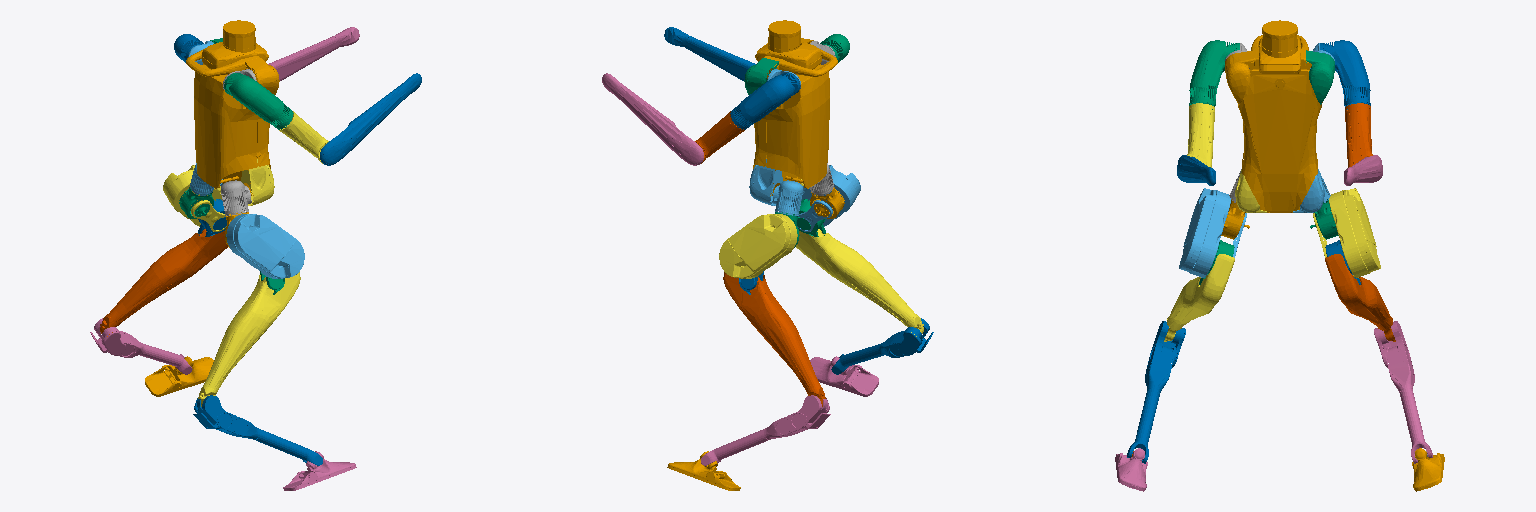
--- Facts derived from the render (not from the file) ---
Views: 3 orthographic renders of the robot side by side, from view 1: azimuth 30°, elevation 25°; view 2: azimuth 150°, elevation 25°; view 3: azimuth 270°, elevation 25°.
Model digit with 29 links and 28 joints (24 continuous, 4 fixed), rooted at torso, posed every joint at zero.
Visible links, largest first — view 1: torso, left_shin, right_shin, right_hip_pitch, right_tarsus, right_elbow, right_shoulder_pitch, left_tarsus, left_toe_roll, left_elbow, left_hip_pitch, right_toe_roll (+5 smaller); view 2: torso, right_shin, left_shin, left_hip_pitch, left_tarsus, left_elbow, left_shoulder_pitch, right_tarsus, right_toe_roll, right_elbow, right_hip_pitch, left_toe_roll (+5 smaller); view 3: torso, left_hip_pitch, right_hip_pitch, left_tarsus, right_tarsus, left_shin, right_shin, left_shoulder_pitch, right_shoulder_pitch, left_shoulder_yaw, right_shoulder_yaw, right_shoulder_cap (+9 smaller).
Link boxes in pixels (x1,y1,x2,y2): torso: (186, 20, 270, 195); left_shin: (100, 229, 227, 336); right_shin: (198, 272, 300, 406); right_hip_pitch: (226, 214, 304, 278); right_tarsus: (193, 395, 322, 465); right_elbow: (320, 73, 421, 165); right_shoulder_pitch: (224, 73, 293, 129); left_tarsus: (90, 318, 192, 374); left_toe_roll: (145, 356, 213, 396); left_elbow: (268, 27, 359, 80); left_hip_pitch: (163, 165, 226, 231); right_toe_roll: (283, 451, 356, 490); torso: (753, 20, 837, 195); right_shin: (796, 229, 923, 336); left_shin: (723, 272, 825, 406); left_hip_pitch: (719, 214, 797, 278); left_tarsus: (701, 395, 830, 465); left_elbow: (602, 73, 703, 165); left_shoulder_pitch: (730, 73, 799, 129); right_tarsus: (831, 318, 933, 374); right_toe_roll: (810, 356, 878, 396); right_elbow: (664, 27, 755, 80); right_hip_pitch: (797, 165, 860, 231); left_toe_roll: (667, 451, 740, 490); torso: (1237, 20, 1322, 212); left_hip_pitch: (1313, 188, 1380, 277); right_hip_pitch: (1179, 188, 1246, 277); left_tarsus: (1374, 321, 1432, 463); right_tarsus: (1127, 321, 1185, 463); left_shin: (1325, 254, 1395, 341); right_shin: (1164, 254, 1234, 341); left_shoulder_pitch: (1320, 40, 1370, 109); right_shoulder_pitch: (1189, 40, 1239, 109); left_shoulder_yaw: (1345, 103, 1372, 167); right_shoulder_yaw: (1187, 103, 1214, 167); right_shoulder_cap: (1225, 50, 1253, 104).
Size in the robot's own frame: 0.8721 by 0.9339 by 1.4 metres.
29 mesh visuals loaded from 14 distinct referenced files (14 OBJ).

robot.urdf — digit:
<?xml version="1.0" encoding="utf-8"?>
<robot name="digit">
  <link name="torso">
    <inertial>
      <origin rpy="0 0 0" xyz="0.001637 0.0002 0.259547"/>
      <mass value="15.028392"/>
      <inertia ixx="0.376284" ixy="-8.8e-05" ixz="0.008378" iyy="0.342655" iyz="6.7e-05" izz="0.100648"/>
    </inertial>
    <visual>
      <origin rpy="0 0 0" xyz="0 0 0"/>
      <geometry>
        <mesh filename="torso.obj"/>
      </geometry>
    </visual>
    <collision>
      <origin rpy="0 0 0" xyz="0 0 0"/>
      <geometry>
        <mesh filename="torso.obj"/>
      </geometry>
    </collision>
  </link>
  <link name="left_hip_roll">
    <inertial>
      <origin rpy="0 0 0" xyz="-0.001967 0.000244 0.031435"/>
      <mass value="0.915088"/>
      <inertia ixx="0.001017" ixy="-3e-06" ixz="1.3e-05" iyy="0.001148" iyz="-4e-06" izz="0.000766"/>
    </inertial>
    <visual>
      <origin rpy="0 0 0" xyz="0 0 0"/>
      <geometry>
        <mesh filename="hip-yaw-housing.obj"/>
      </geometry>
    </visual>
    <collision>
      <origin rpy="0 0 0" xyz="0 0 0"/>
      <geometry>
        <mesh filename="hip-yaw-housing.obj"/>
      </geometry>
    </collision>
  </link>
  <link name="left_hip_yaw">
    <inertial>
      <origin rpy="0 0 0" xyz="1e-05 -0.001945 0.042033"/>
      <mass value="0.818753"/>
      <inertia ixx="0.001627" ixy="-1e-06" ixz="2e-06" iyy="0.001929" iyz="5.3e-05" izz="0.00077"/>
    </inertial>
    <visual>
      <origin rpy="0 0 0" xyz="0 0 0"/>
      <geometry>
        <mesh filename="hip-pitch-housing.obj"/>
      </geometry>
    </visual>
    <collision>
      <origin rpy="0 0 0" xyz="0 0 0"/>
      <geometry>
        <mesh filename="hip-pitch-housing.obj"/>
      </geometry>
    </collision>
  </link>
  <link name="left_hip_pitch">
    <inertial>
      <origin rpy="0 0 0" xyz="0.060537 0.000521 -0.038857"/>
      <mass value="6.244279"/>
      <inertia ixx="0.011533" ixy="-0.000171" ixz="0.000148" iyy="0.033345" iyz="0.000178" izz="0.033958"/>
    </inertial>
    <visual>
      <origin rpy="0 0 0" xyz="0 0 0"/>
      <geometry>
        <mesh filename="hip-pitch.obj"/>
      </geometry>
    </visual>
    <collision>
      <origin rpy="0 0 0" xyz="0 0 0"/>
      <geometry>
        <mesh filename="hip-pitch.obj"/>
      </geometry>
    </collision>
  </link>
  <link name="left_knee">
    <inertial>
      <origin rpy="0 0 0" xyz="0.045641 0.042154 0.001657"/>
      <mass value="1.227077"/>
      <inertia ixx="0.002643" ixy="-0.001832" ixz="6.6e-05" iyy="0.005098" iyz="4.5e-05" izz="0.007019"/>
    </inertial>
    <visual>
      <origin rpy="0 0 0" xyz="0 0 0"/>
      <geometry>
        <mesh filename="knee.obj"/>
      </geometry>
    </visual>
    <collision>
      <origin rpy="0 0 0" xyz="0 0 0"/>
      <geometry>
        <mesh filename="knee.obj"/>
      </geometry>
    </collision>
  </link>
  <link name="left_shin">
    <inertial>
      <origin rpy="0 0 0" xyz="0.174265 0.010265 0.00107"/>
      <mass value="0.895793"/>
      <inertia ixx="0.001128" ixy="0.001098" ixz="0.000196" iyy="0.022492" iyz="-3e-06" izz="0.022793"/>
    </inertial>
    <visual>
      <origin rpy="0 0 0" xyz="0 0 0"/>
      <geometry>
        <mesh filename="shin.obj"/>
      </geometry>
    </visual>
    <collision>
      <origin rpy="0 0 0" xyz="0 0 0"/>
      <geometry>
        <mesh filename="shin.obj"/>
      </geometry>
    </collision>
  </link>
  <link name="left_tarsus">
    <inertial>
      <origin rpy="0 0 0" xyz="0.000932 -0.029183 0.000678"/>
      <mass value="1.322865"/>
      <inertia ixx="0.000932" ixy="0.00061" ixz="0.000102" iyy="0.016409" iyz="9e-06" izz="0.016501"/>
    </inertial>
    <visual>
      <origin rpy="0 0 0" xyz="0 0 0"/>
      <geometry>
        <mesh filename="tarsus.obj"/>
      </geometry>
    </visual>
    <collision>
      <origin rpy="0 0 0" xyz="0 0 0"/>
      <geometry>
        <mesh filename="tarsus.obj"/>
      </geometry>
    </collision>
  </link>
  <link name="left_toe_pitch">
    <inertial>
      <origin rpy="0 0 0" xyz="-0.000141 2e-06 3e-06"/>
      <mass value="0.043881"/>
      <inertia ixx="5e-06" ixy="0" ixz="0" iyy="8e-06" iyz="0" izz="5e-06"/>
    </inertial>
    <visual>
      <origin rpy="0 0 0" xyz="0 0 0"/>
      <geometry>
        <mesh filename="toe-pitch.obj"/>
      </geometry>
    </visual>
    <collision>
      <origin rpy="0 0 0" xyz="0 0 0"/>
      <geometry>
        <mesh filename="toe-pitch.obj"/>
      </geometry>
    </collision>
  </link>
  <link name="left_toe_roll">
    <inertial>
      <origin rpy="0 0 0" xyz="9e-06 -0.028084 -0.023204"/>
      <mass value="0.531283"/>
      <inertia ixx="0.00187" ixy="0" ixz="0" iyy="0.001616" iyz="0.000566" izz="0.000843"/>
    </inertial>
    <visual>
      <origin rpy="0 0 0" xyz="0 0 0"/>
      <geometry>
        <mesh filename="toe-roll.obj"/>
      </geometry>
    </visual>
    <collision>
      <origin rpy="0 0 0" xyz="0 0 0"/>
      <geometry>
        <mesh filename="toe-roll.obj"/>
      </geometry>
    </collision>
  </link>
  <link name="left_shoulder_roll">
    <inertial>
      <origin rpy="0 0 0" xyz="9e-06 -0.003158 0.023405"/>
      <mass value="0.535396"/>
      <inertia ixx="0.000704" ixy="1.4e-05" ixz="1.2e-05" iyy="0.00075" iyz="3.5e-05" izz="0.000298"/>
    </inertial>
    <visual>
      <origin rpy="0 0 0" xyz="0 0 0"/>
      <geometry>
        <mesh filename="arm-L1.obj"/>
      </geometry>
    </visual>
    <collision>
      <origin rpy="0 0 0" xyz="0 0 0"/>
      <geometry>
        <mesh filename="arm-L1.obj"/>
      </geometry>
    </collision>
  </link>
  <link name="left_shoulder_cap">
    <inertial>
      <origin rpy="0 0 0" xyz="9e-06 -0.003158 0.023405"/>
      <mass value="0.535396"/>
      <inertia ixx="0.000704" ixy="1.4e-05" ixz="1.2e-05" iyy="0.00075" iyz="3.5e-05" izz="0.000298"/>
    </inertial>
    <visual>
      <origin rpy="0 0 0" xyz="0 0 0"/>
      <geometry>
        <mesh filename="shoulder-roll-housing.obj"/>
      </geometry>
    </visual>
    <collision>
      <origin rpy="0 0 0" xyz="0 0 0"/>
      <geometry>
        <mesh filename="shoulder-roll-housing.obj"/>
      </geometry>
    </collision>
  </link>
  <link name="left_waist_cap">
    <inertial>
      <origin rpy="0 0 0" xyz="9e-06 -0.003158 0.023405"/>
      <mass value="0.535396"/>
      <inertia ixx="0.000704" ixy="1.4e-05" ixz="1.2e-05" iyy="0.00075" iyz="3.5e-05" izz="0.000298"/>
    </inertial>
    <visual>
      <origin rpy="0 0 0" xyz="0 0 0"/>
      <geometry>
        <mesh filename="shoulder-roll-housing.obj"/>
      </geometry>
    </visual>
    <collision>
      <origin rpy="0 0 0" xyz="0 0 0"/>
      <geometry>
        <mesh filename="shoulder-roll-housing.obj"/>
      </geometry>
    </collision>
  </link>
  <link name="left_shoulder_pitch">
    <inertial>
      <origin rpy="0 0 0" xyz="-4.2e-05 -0.061882 -0.073788"/>
      <mass value="1.440357"/>
      <inertia ixx="0.006761" ixy="-6e-06" ixz="-3e-06" iyy="0.002087" iyz="-0.002046" izz="0.005778"/>
    </inertial>
    <visual>
      <origin rpy="0 0 0" xyz="0 0 0"/>
      <geometry>
        <mesh filename="arm-L2.obj"/>
      </geometry>
    </visual>
    <collision>
      <origin rpy="0 0 0" xyz="0 0 0"/>
      <geometry>
        <mesh filename="arm-L2.obj"/>
      </geometry>
    </collision>
  </link>
  <link name="left_shoulder_yaw">
    <inertial>
      <origin rpy="0 0 0" xyz="-3e-05 -0.001937 0.11407"/>
      <mass value="1.065387"/>
      <inertia ixx="0.006967" ixy="1e-06" ixz="-1e-06" iyy="0.007003" iyz="1.5e-05" izz="0.000673"/>
    </inertial>
    <visual>
      <origin rpy="0 0 0" xyz="0 0 0"/>
      <geometry>
        <mesh filename="arm-L3.obj"/>
      </geometry>
    </visual>
    <collision>
      <origin rpy="0 0 0" xyz="0 0 0"/>
      <geometry>
        <mesh filename="arm-L3.obj"/>
      </geometry>
    </collision>
  </link>
  <link name="left_elbow">
    <inertial>
      <origin rpy="0 0 0" xyz="0.107996 -0.000521 -0.017765"/>
      <mass value="0.550582"/>
      <inertia ixx="0.000476" ixy="2.9e-05" ixz="0.001403" iyy="0.009564" iyz="1.5e-05" izz="-9e-06"/>
    </inertial>
    <visual>
      <origin rpy="0 0 0" xyz="0 0 0"/>
      <geometry>
        <mesh filename="arm-L4.obj"/>
      </geometry>
    </visual>
    <collision>
      <origin rpy="0 0 0" xyz="0 0 0"/>
      <geometry>
        <mesh filename="arm-L4.obj"/>
      </geometry>
    </collision>
  </link>
 
  <link name="right_hip_roll">
    <inertial>
      <origin rpy="0 0 0" xyz="-0.001967 -0.000244 0.031435"/>
      <mass value="0.915088"/>
      <inertia ixx="0.001017" ixy="3e-06" ixz="1.3e-05" iyy="0.001148" iyz="4e-06" izz="0.000766"/>
    </inertial>
    <visual>
      <origin rpy="0 0 0" xyz="0 0 0"/>
      <geometry>
        <mesh filename="hip-yaw-housing.obj" scale="1 -1 1"/>
      </geometry>
    </visual>
    <collision>
      <origin rpy="0 0 0" xyz="0 0 0"/>
      <geometry>
        <mesh filename="hip-yaw-housing.obj" scale="1 -1 1"/>
      </geometry>
    </collision>
  </link>
  <link name="right_hip_yaw">
    <inertial>
      <origin rpy="0 0 0" xyz="1e-05 0.001945 0.042033"/>
      <mass value="0.818753"/>
      <inertia ixx="0.001627" ixy="1e-06" ixz="2e-06" iyy="0.001929" iyz="-5.3e-05" izz="0.00077"/>
    </inertial>
    <visual>
      <origin rpy="0 0 0" xyz="0 0 0"/>
      <geometry>
        <mesh filename="hip-pitch-housing.obj" scale="1 -1 1"/>
      </geometry>
    </visual>
    <collision>
      <origin rpy="0 0 0" xyz="0 0 0"/>
      <geometry>
        <mesh filename="hip-pitch-housing.obj" scale="1 -1 1"/>
      </geometry>
    </collision>
  </link>
  <link name="right_hip_pitch">
    <inertial>
      <origin rpy="0 0 0" xyz="0.060537 -0.000521 -0.038857"/>
      <mass value="6.244279"/>
      <inertia ixx="0.011533" ixy="0.000171" ixz="0.000148" iyy="0.033345" iyz="-0.000178" izz="0.033958"/>
    </inertial>
    <visual>
      <origin rpy="0 0 0" xyz="0 0 0"/>
      <geometry>
        <mesh filename="hip-pitch.obj" scale="1 -1 1"/>
      </geometry>
    </visual>
    <collision>
      <origin rpy="0 0 0" xyz="0 0 0"/>
      <geometry>
        <mesh filename="hip-pitch.obj" scale="1 -1 1"/>
      </geometry>
    </collision>
  </link>
  <link name="right_knee">
    <inertial>
      <origin rpy="0 0 0" xyz="0.045641 -0.042154 0.001657"/>
      <mass value="1.227077"/>
      <inertia ixx="0.002643" ixy="0.001832" ixz="6.6e-05" iyy="0.005098" iyz="-4.5e-05" izz="0.007019"/>
    </inertial>
    <visual>
      <origin rpy="0 0 0" xyz="0 0 0"/>
      <geometry>
        <mesh filename="knee.obj" scale="1 -1 1"/>
      </geometry>
    </visual>
    <collision>
      <origin rpy="0 0 0" xyz="0 0 0"/>
      <geometry>
        <mesh filename="knee.obj" scale="1 -1 1"/>
      </geometry>
    </collision>
  </link>
  <link name="right_shin">
    <inertial>
      <origin rpy="0 0 0" xyz="0.174265 -0.010265 0.00107"/>
      <mass value="0.895793"/>
      <inertia ixx="0.001128" ixy="-0.001098" ixz="0.000196" iyy="0.022492" iyz="3e-06" izz="0.022793"/>
    </inertial>
    <visual>
      <origin rpy="0 0 0" xyz="0 0 0"/>
      <geometry>
        <mesh filename="shin.obj" scale="1 -1 1"/>
      </geometry>
    </visual>
    <collision>
      <origin rpy="0 0 0" xyz="0 0 0"/>
      <geometry>
        <mesh filename="shin.obj" scale="1 -1 1"/>
      </geometry>
    </collision>
  </link>
  <link name="right_tarsus">
    <inertial>
      <origin rpy="0 0 0" xyz="0.000932 0.029183 0.000678"/>
      <mass value="1.322865"/>
      <inertia ixx="0.000932" ixy="-0.00061" ixz="0.000102" iyy="0.016409" iyz="-9e-06" izz="0.016501"/>
    </inertial>
    <visual>
      <origin rpy="0 0 0" xyz="0 0 0"/>
      <geometry>
        <mesh filename="tarsus.obj" scale="1 -1 1"/>
      </geometry>
    </visual>
    <collision>
      <origin rpy="0 0 0" xyz="0 0 0"/>
      <geometry>
        <mesh filename="tarsus.obj" scale="1 -1 1"/>
      </geometry>
    </collision>
  </link>
  <link name="right_toe_pitch">
    <inertial>
      <origin rpy="0 0 0" xyz="-0.000141 -2e-06 3e-06"/>
      <mass value="0.043881"/>
      <inertia ixx="5e-06" ixy="0" ixz="0" iyy="8e-06" iyz="0" izz="5e-06"/>
    </inertial>
    <visual>
      <origin rpy="0 0 0" xyz="0 0 0"/>
      <geometry>
        <mesh filename="toe-pitch.obj" scale="1 -1 1"/>
      </geometry>
    </visual>
    <collision>
      <origin rpy="0 0 0" xyz="0 0 0"/>
      <geometry>
        <mesh filename="toe-pitch.obj" scale="1 -1 1"/>
      </geometry>
    </collision>
  </link>
  <link name="right_toe_roll">
    <inertial>
      <origin rpy="0 0 0" xyz="9e-06 0.028084 -0.023204"/>
      <mass value="0.531283"/>
      <inertia ixx="0.00187" ixy="0" ixz="0" iyy="0.001616" iyz="-0.000566" izz="0.000843"/>
    </inertial>
    <visual>
      <origin rpy="0 0 0" xyz="0 0 0"/>
      <geometry>
        <mesh filename="toe-roll.obj" scale="1 -1 1"/>
      </geometry>
    </visual>
    <collision>
      <origin rpy="0 0 0" xyz="0 0 0"/>
      <geometry>
        <mesh filename="toe-roll.obj" scale="1 -1 1"/>
      </geometry>
    </collision>
  </link>
  <link name="right_shoulder_roll">
    <inertial>
      <origin rpy="0 0 0" xyz="9e-06 0.003158 0.023405"/>
      <mass value="0.535396"/>
      <inertia ixx="0.000704" ixy="-1.4e-05" ixz="1.2e-05" iyy="0.00075" iyz="-3.5e-05" izz="0.000298"/>
    </inertial>
    <visual>
      <origin rpy="0 0 0" xyz="0 0 0"/>
      <geometry>
        <mesh filename="arm-L1.obj" scale="1 -1 1"/>
      </geometry>
    </visual>
    <collision>
      <origin rpy="0 0 0" xyz="0 0 0"/>
      <geometry>
        <mesh filename="arm-L1.obj" scale="1 -1 1"/>
      </geometry>
    </collision>
  </link>
  <link name="right_shoulder_cap">
    <inertial>
      <origin rpy="0 0 0" xyz="9e-06 0.003158 0.023405"/>
      <mass value="0.535396"/>
      <inertia ixx="0.000704" ixy="-1.4e-05" ixz="1.2e-05" iyy="0.00075" iyz="-3.5e-05" izz="0.000298"/>
    </inertial>
    <visual>
      <origin rpy="0 0 0" xyz="0 0 0"/>
      <geometry>
        <mesh filename="shoulder-roll-housing.obj" scale="1 -1 1"/>
      </geometry>
    </visual>
    <collision>
      <origin rpy="0 0 0" xyz="0 0 0"/>
      <geometry>
        <mesh filename="shoulder-roll-housing.obj" scale="1 -1 1"/>
      </geometry>
    </collision>
  </link>
  <link name="right_waist_cap">
    <inertial>
      <origin rpy="0 0 0" xyz="9e-06 0.003158 0.023405"/>
      <mass value="0.535396"/>
      <inertia ixx="0.000704" ixy="-1.4e-05" ixz="1.2e-05" iyy="0.00075" iyz="-3.5e-05" izz="0.000298"/>
    </inertial>
    <visual>
      <origin rpy="0 0 0" xyz="0 0 0"/>
      <geometry>
        <mesh filename="shoulder-roll-housing.obj" scale="1 -1 1"/>
      </geometry>
    </visual>
    <collision>
      <origin rpy="0 0 0" xyz="0 0 0"/>
      <geometry>
        <mesh filename="shoulder-roll-housing.obj" scale="1 -1 1"/>
      </geometry>
    </collision>
  </link>
  <link name="right_shoulder_pitch">
    <inertial>
      <origin rpy="0 0 0" xyz="-4.2e-05 0.061882 -0.073788"/>
      <mass value="1.440357"/>
      <inertia ixx="0.006761" ixy="6e-06" ixz="-3e-06" iyy="0.002087" iyz="0.002046" izz="0.005778"/>
    </inertial>
    <visual>
      <origin rpy="0 0 0" xyz="0 0 0"/>
      <geometry>
        <mesh filename="arm-L2.obj" scale="1 -1 1"/>
      </geometry>
    </visual>
    <collision>
      <origin rpy="0 0 0" xyz="0 0 0"/>
      <geometry>
        <mesh filename="arm-L2.obj" scale="1 -1 1"/>
      </geometry>
    </collision>
  </link>
  <link name="right_shoulder_yaw">
    <inertial>
      <origin rpy="0 0 0" xyz="-3e-05 0.001937 0.11407"/>
      <mass value="1.065387"/>
      <inertia ixx="0.006967" ixy="-1e-06" ixz="-1e-06" iyy="0.007003" iyz="-1.5e-05" izz="0.000673"/>
    </inertial>
    <visual>
      <origin rpy="0 0 0" xyz="0 0 0"/>
      <geometry>
        <mesh filename="arm-L3.obj" scale="1 -1 1"/>
      </geometry>
    </visual>
    <collision>
      <origin rpy="0 0 0" xyz="0 0 0"/>
      <geometry>
        <mesh filename="arm-L3.obj" scale="1 -1 1"/>
      </geometry>
    </collision>
  </link>
  <link name="right_elbow">
    <inertial>
      <origin rpy="0 0 0" xyz="0.107996 0.000521 -0.017765"/>
      <mass value="0.550582"/>
      <inertia ixx="0.000476" ixy="-2.9e-05" ixz="0.001403" iyy="0.009564" iyz="-1.5e-05" izz="-9e-06"/>
    </inertial>
    <visual>
      <origin rpy="0 0 0" xyz="0 0 0"/>
      <geometry>
        <mesh filename="arm-L4.obj" scale="1 -1 1"/>
      </geometry>
    </visual>
    <collision>
      <origin rpy="0 0 0" xyz="0 0 0"/>
      <geometry>
        <mesh filename="arm-L4.obj" scale="1 -1 1"/>
      </geometry>
    </collision>
  </link> 
  <joint name="left-hip-roll" type="continuous">
    <origin rpy="1.57079632679 -1.1955506 -1.57079632679" xyz="-0.001 0.091 0"/>
    <axis xyz="0 0 1"/>
    <parent link="torso"/>
    <child link="left_hip_roll"/>
    <limit effort="1.4" lower="-1.0472" upper="1.0472" velocity="12.15"/>
  </joint>
  <joint name="left-hip-yaw" type="continuous">
    <origin rpy="0 -1.57079632679 0" xyz="-0.0505 0 0.044"/>
    <axis xyz="0 0 1"/>
    <parent link="left_hip_roll"/>
    <child link="left_hip_yaw"/>
    <limit effort="1.4" lower="-0.698132" upper="0.698132" velocity="12.15"/>
  </joint>
  <joint name="left-hip-pitch" type="continuous">
    <origin rpy="-1.57079632679 -0.785398163397 3.14159265359" xyz="0 0.004 0.068"/>
    <axis xyz="0 0 -1"/>
    <parent link="left_hip_yaw"/>
    <child link="left_hip_pitch"/>
    <limit effort="12.5" lower="-1.0472" upper="1.57079632679" velocity="8.5"/>
  </joint>
  <joint name="left-knee" type="continuous">
    <origin rpy="0 0 -1.57079632679" xyz="0.12 0 0.0045"/>
    <axis xyz="0 0 1"/>
    <parent link="left_hip_pitch"/>
    <child link="left_knee"/>
    <limit effort="12.5" lower="-1.2392" upper="0.8727" velocity="8.5085"/>
  </joint>
  <joint name="left-shin" type="continuous">
    <origin rpy="0 0 0" xyz="0.060677 0.047406 0"/>
    <axis xyz="0 0 1"/>
    <parent link="left_knee"/>
    <child link="left_shin"/>
    <limit effort="0" lower="-0.35" upper="0.35" velocity="10"/>
  </joint>
  <joint name="left-tarsus" type="continuous">
    <origin rpy="0 0 1.7976891" xyz="0.434759 0.02 0"/>
    <axis xyz="0 0 1"/>
    <parent link="left_shin"/>
    <child link="left_tarsus"/>
    <limit effort="0" lower="-0.8779" upper="1.2497" velocity="20"/>
  </joint>
  <joint name="left-toe-pitch" type="continuous">
    <origin rpy="0 0 1.1956" xyz="0.408 -0.04 0"/>
    <axis xyz="0 0 1"/>
    <parent link="left_tarsus"/>
    <child link="left_toe_pitch"/>
    <limit effort="0.9" lower="-0.785398163397" upper="0.785398163397" velocity="11.5"/>
  </joint>
  <joint name="left-toe-roll" type="continuous">
    <origin rpy="0 1.57079632679 0" xyz="0 0 0"/>
    <axis xyz="0 0 1"/>
    <parent link="left_toe_pitch"/>
    <child link="left_toe_roll"/>
    <limit effort="0.9" lower="-0.6109" upper="0.6109" velocity="11.5"/>
  </joint>
  <joint name="left-shoulder-roll" type="continuous">
    <origin rpy="-1.57079632679 -1.3962633 1.57079632679" xyz="-0.001 0.12 0.4"/>
    <axis xyz="0 0 1"/>
    <parent link="torso"/>
    <child link="left_shoulder_roll"/>
    <limit effort="1.4" lower="-1.309" upper="1.309" velocity="12.5"/>
  </joint>
  <joint name="shoulder_roll_cap_left" type="fixed">
    <origin rpy="-1.57079632679 -1.3962633 1.57079632679" xyz="0.001 0.12 0.4"/>
    <axis xyz="0 0 1"/>
    <parent link="torso"/>
    <child link="left_shoulder_cap"/>
    <limit effort="1.4" lower="-1.309" upper="1.309" velocity="12.5"/>
  </joint>
  <joint name="left-shoulder-pitch" type="continuous">
    <origin rpy="1.57079632679 0.785398163397 -0.2792527" xyz="-0.00317 -0.011055 0.0555"/>
    <axis xyz="0 0 -1"/>
    <parent link="left_shoulder_roll"/>
    <child link="left_shoulder_pitch"/>
    <limit effort="1.4" lower="-2.5307" upper="2.5307" velocity="12.5"/>
  </joint>
  <joint name="left-shoulder-yaw" type="continuous">
    <origin rpy="1.57079632679 0 0" xyz="0 -0.165 -0.1"/>
    <axis xyz="0 0 1"/>
    <parent link="left_shoulder_pitch"/>
    <child link="left_shoulder_yaw"/>
    <limit effort="1.4" lower="-1.7453" upper="1.7453" velocity="10"/>
  </joint>
  <joint name="left-elbow" type="continuous">
    <origin rpy="1.57079632679 -0.3926991 0" xyz="0 -0.0385 0.185"/>
    <axis xyz="0 0 1"/>
    <parent link="left_shoulder_yaw"/>
    <child link="left_elbow"/>
    <limit effort="1.4" lower="-1.3526" upper="1.3526" velocity="12.5"/>
  </joint>
  <joint name="right-hip-roll" type="continuous">
    <origin rpy="-1.57079632679 -1.1955506 1.57079632679" xyz="-0.001 -0.091 0"/>
    <axis xyz="0 0 1"/>
    <parent link="torso"/>
    <child link="right_hip_roll"/>
    <limit effort="1.4" lower="-1.0472" upper="1.0472" velocity="12.15"/>
  </joint>
  <joint name="right-hip-yaw" type="continuous">
    <origin rpy="0 -1.57079632679 0" xyz="-0.0505 0 0.044"/>
    <axis xyz="0 0 1"/>
    <parent link="right_hip_roll"/>
    <child link="right_hip_yaw"/>
    <limit effort="1.4" lower="-0.698132" upper="0.698132" velocity="12.15"/>
  </joint>
  <joint name="right-hip-pitch" type="continuous">
    <origin rpy="1.57079632679 -0.785398163397 -3.14159265359" xyz="0 -0.004 0.068"/>
    <axis xyz="0 0 -1"/>
    <parent link="right_hip_yaw"/>
    <child link="right_hip_pitch"/>
    <limit effort="12.5" lower="-1.57079632679" upper="1.0472" velocity="8.5"/>
  </joint>
  <joint name="right-knee" type="continuous">
    <origin rpy="0 0 1.57079632679" xyz="0.12 0 0.0045"/>
    <axis xyz="0 0 1"/>
    <parent link="right_hip_pitch"/>
    <child link="right_knee"/>
    <limit effort="12.5" lower="-0.8727" upper="1.2392" velocity="8.5085"/>
  </joint>
  <joint name="right-shin" type="continuous">
    <origin rpy="0 0 0" xyz="0.060677 -0.047406 0"/>
    <axis xyz="0 0 1"/>
    <parent link="right_knee"/>
    <child link="right_shin"/>
    <limit effort="0" lower="-0.35" upper="0.35" velocity="10"/>
  </joint>
  <joint name="right-tarsus" type="continuous">
    <origin rpy="0 0 -1.7976891" xyz="0.434759 -0.02 0"/>
    <axis xyz="0 0 1"/>
    <parent link="right_shin"/>
    <child link="right_tarsus"/>
    <limit effort="0" lower="-1.2497" upper="0.8779" velocity="20"/>
  </joint>
  <joint name="right-toe-pitch" type="continuous">
    <origin rpy="0 0 -1.1956" xyz="0.408 0.04 0"/>
    <axis xyz="0 0 1"/>
    <parent link="right_tarsus"/>
    <child link="right_toe_pitch"/>
    <limit effort="0.9" lower="-0.785398163397" upper="0.785398163397" velocity="11.5"/>
  </joint>
  <joint name="right-toe-roll" type="continuous">
    <origin rpy="0 1.57079632679 0" xyz="0 0 0"/>
    <axis xyz="0 0 1"/>
    <parent link="right_toe_pitch"/>
    <child link="right_toe_roll"/>
    <limit effort="0.9" lower="-0.6109" upper="0.6109" velocity="11.5"/>
  </joint>
  <joint name="right-shoulder-roll" type="continuous">
    <origin rpy="1.57079632679 -1.3962633 -1.57079632679" xyz="-0.001 -0.12 0.4"/>
    <axis xyz="0 0 1"/>
    <parent link="torso"/>
    <child link="right_shoulder_roll"/>
    <limit effort="1.4" lower="-1.309" upper="1.309" velocity="12.5"/>
  </joint>
  <joint name="shoulder_cap_joint_right" type="fixed">
    <origin rpy="1.57079632679 -1.3962633 -1.57079632679" xyz="0.001 -0.12 0.4"/>
    <axis xyz="0 0 1"/>
    <parent link="torso"/>
    <child link="right_shoulder_cap"/>
    <limit effort="1.4" lower="-1.309" upper="1.309" velocity="12.5"/>
  </joint>

  <joint name="waist_cap_joint_right" type="fixed">
    <origin rpy="1.57079632679 1.57 -1.57079632679" xyz="-0.001 -0.09 0.0"/>
    <axis xyz="0 0 1"/>
    <parent link="torso"/>
    <child link="left_waist_cap"/>
    <limit effort="1.4" lower="-1.309" upper="1.309" velocity="12.5"/>
  </joint>

  <joint name="waist_cap_joint_left" type="fixed">
    <origin rpy="-1.57079632679 1.57 1.57079632679" xyz="-0.001 0.09 0.0"/>
    <axis xyz="0 0 1"/>
    <parent link="torso"/>
    <child link="right_waist_cap"/>
    <limit effort="1.4" lower="-1.309" upper="1.309" velocity="12.5"/>
  </joint>

  <joint name="right-shoulder-pitch" type="continuous">
    <origin rpy="-1.57079632679 0.785398163397 0.2792527" xyz="-0.00317 0.011055 0.0555"/>
    <axis xyz="0 0 -1"/>
    <parent link="right_shoulder_roll"/>
    <child link="right_shoulder_pitch"/>
    <limit effort="1.4" lower="-2.5307" upper="2.5307" velocity="12.5"/>
  </joint>
  <joint name="right-shoulder-yaw" type="continuous">
    <origin rpy="-1.57079632679 0 0" xyz="0 0.165 -0.1"/>
    <axis xyz="0 0 1"/>
    <parent link="right_shoulder_pitch"/>
    <child link="right_shoulder_yaw"/>
    <limit effort="1.4" lower="-1.7453" upper="1.7453" velocity="10"/>
  </joint>
  <joint name="right-elbow" type="continuous">
    <origin rpy="-1.57079632679 -0.3926991 0" xyz="0 0.0385 0.185"/>
    <axis xyz="0 0 1"/>
    <parent link="right_shoulder_yaw"/>
    <child link="right_elbow"/>
    <limit effort="1.4" lower="-1.3526" upper="1.3526" velocity="12.5"/>
  </joint>
  
  <!-- pins  -->
   <!-- <link name="leftpin">
        <inertial>
            <origin rpy="0 0 0" xyz="0.0 0.0 0.0"/>
            <mass value="0.5"/>
        <inertia ixx="4.166666666666667e-6" ixy="0.0" ixz="0.0" iyy="4.166666666666667e-6" iyz="0.0" izz="6.250000000000001e-6"/>
        </inertial>
        <visual>
        <origin rpy="0 0 0" xyz="0.0 0 0"/>
        <geometry> 
            <box size="0.2 0.1 0.05"/> 
        </geometry>
        </visual>
        <collision>
        <origin rpy="0 0 0" xyz="0.0 0 0"/>
        <geometry>
            <box size="0.2 0.1 0.05"/> 
        </geometry>
        </collision>
    </link>

    <link name="rightpin">
        <inertial>
            <origin rpy="0 0 0" xyz="0.0 0.0 0.0"/>
            <mass value="0.5"/>
        <inertia ixx="4.166666666666667e-6" ixy="0.0" ixz="0.0" iyy="4.166666666666667e-6" iyz="0.0" izz="6.250000000000001e-6"/>
        </inertial>
        <visual>
        <origin rpy="0 0 0" xyz="0.0 0 0"/>
        <geometry> 
            <box size="0.2 0.1 0.05"/> 
        </geometry>
        </visual>
        <collision>
        <origin rpy="0 0 0" xyz="0.0 0 0"/>
        <geometry>
            <box size="0.2 0.1 0.05"/> 
        </geometry>
        </collision>
    </link>
    <joint name="leftpinjoint" type="fixed">
      <origin rpy="0 -1.1 -1.57" xyz="0.0 -0.1 0.0"/> 
      <parent link="left_toe_roll"/>
      <child link="leftpin"/> 
    </joint>
    <joint name="rightpinjoint" type="fixed">
      <origin rpy="0 -1.1 1.57" xyz="0.0 0.1 0.0"/> 
      <parent link="right_toe_roll"/>
      <child link="rightpin"/> 
    </joint> -->
</robot>
